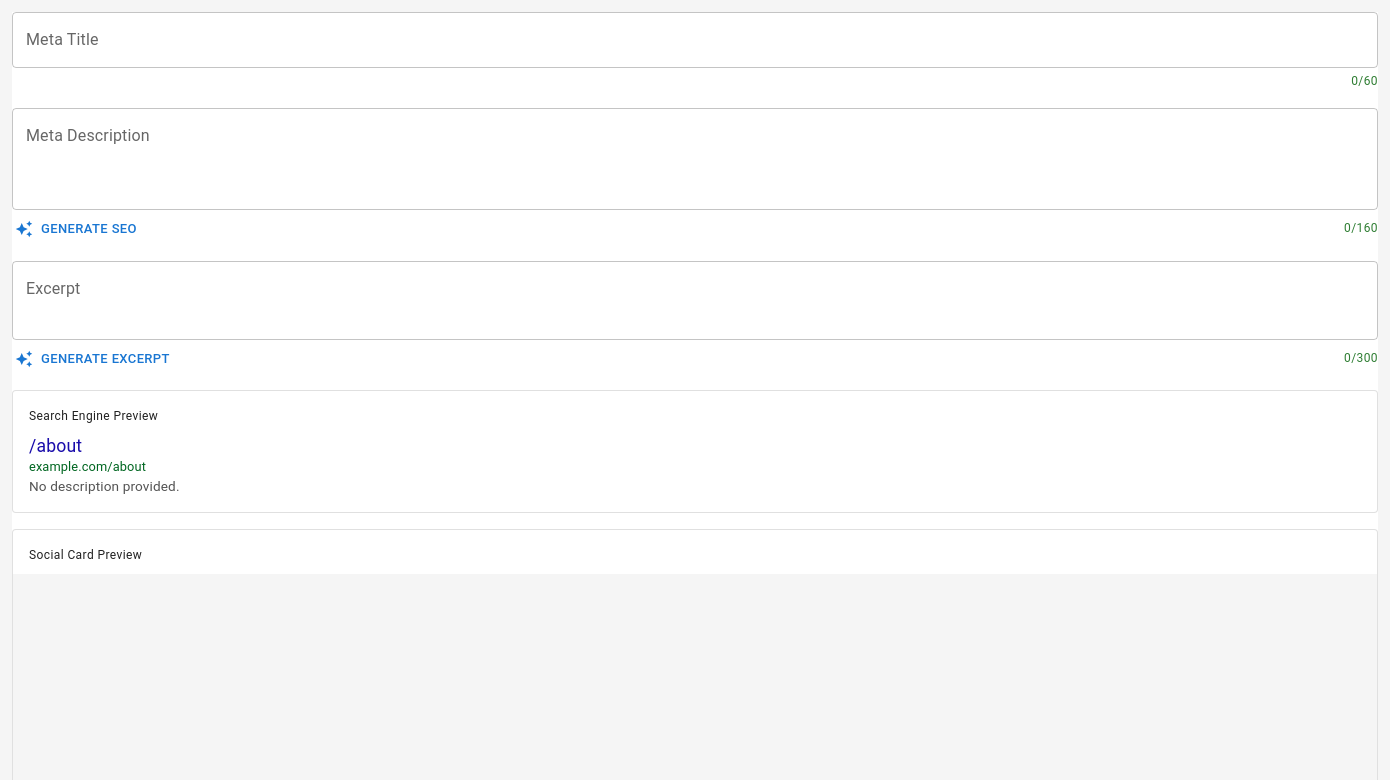
it: PageSeoTab — AI buttons (closes #76) › populates meta_title and meta_description from section content
Click the button with test id "page-seo.btn.generate-seo" at (77, 229), box [12,214,142,245]
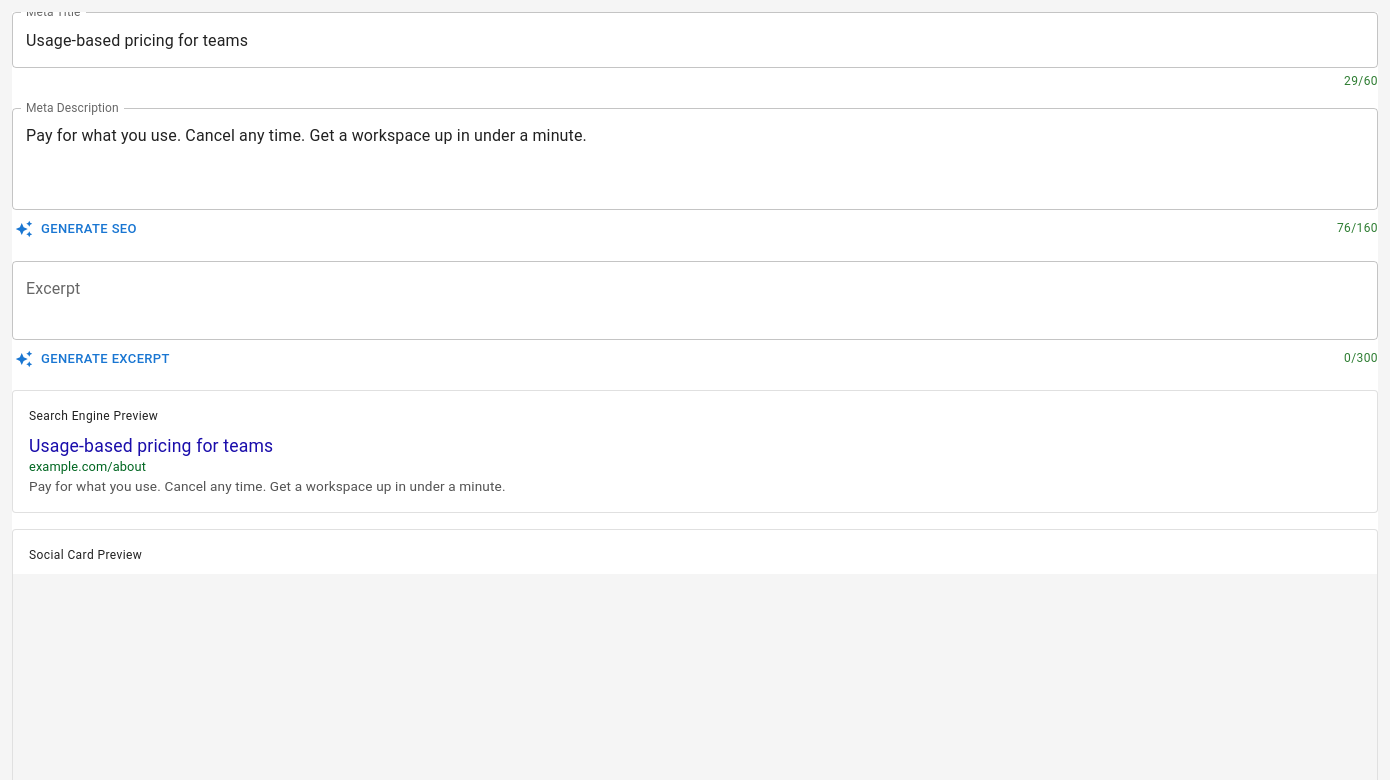
Now the field labelled "Meta Title" holds "Usage-based pricing for teams", box [12,12,1378,68]
Now the text box labelled "Meta Description" holds "Pay for what you use. Cancel any time. Get a workspace up in under a minute.", box [26,124,1364,193]
